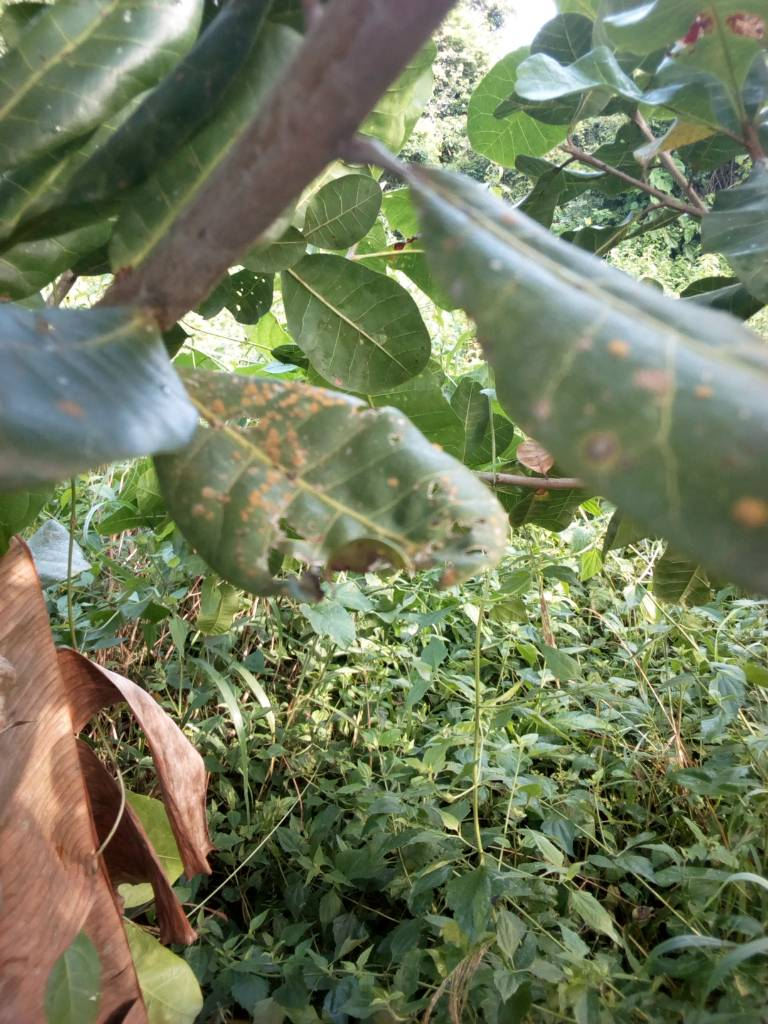Rouille: (408, 173, 768, 598), (168, 364, 518, 645), (1, 297, 218, 481)
